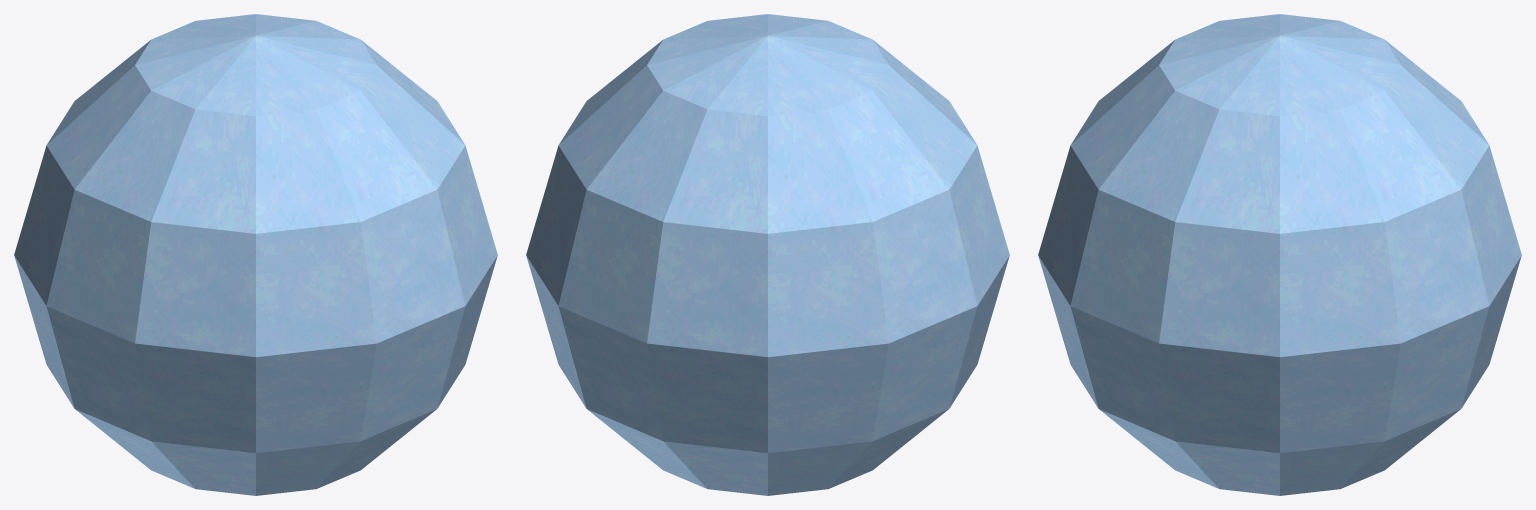
Rendered from 8_KingofNY9_Combined188_Sky.obj.
The picture shows the model from 3 angles, left to right: view 1: azimuth 30°, elevation 25°; view 2: azimuth 150°, elevation 25°; view 3: azimuth 270°, elevation 25°; orthographic projection.
Parts seen in each view (by area): view 1: sector_0; view 2: sector_0; view 3: sector_0.
Part boxes in pixels (x1=…): sector_0: x1=14, y1=14, x2=497, y2=495; sector_0: x1=526, y1=14, x2=1009, y2=495; sector_0: x1=1038, y1=14, x2=1521, y2=495.
Size of the model in its own units: 93765 by 93765 by 93765.
